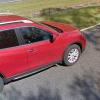Car: (5, 9, 87, 92)
